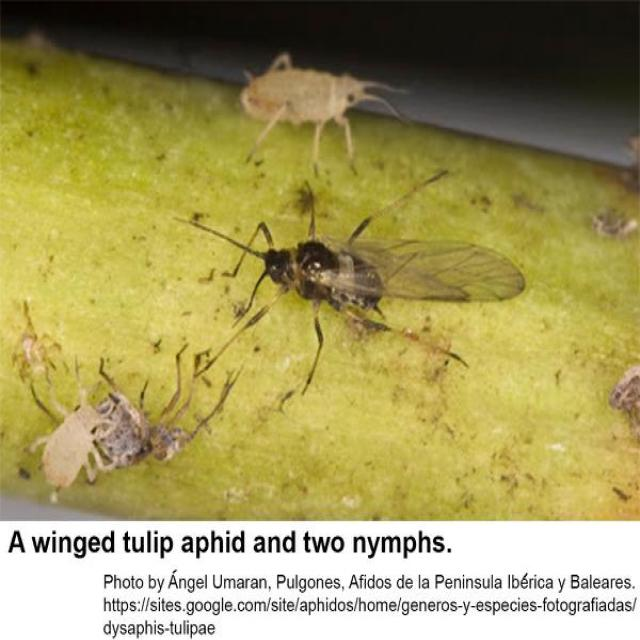Aphid-Grown-: (237, 49, 414, 157), (21, 376, 110, 501)
Aphid-Grown-have wings-: (205, 184, 534, 368)
